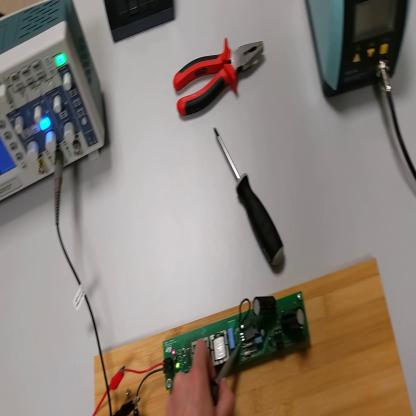hand: (166, 342, 234, 415)
high voltage board: (123, 291, 312, 399)
oscilloscope: (2, 1, 106, 204)
oscilloscope probe tip: (207, 341, 240, 405)
screwdriver-: (214, 124, 287, 271)
welder station: (306, 1, 411, 108)
working area: (96, 258, 416, 415)
